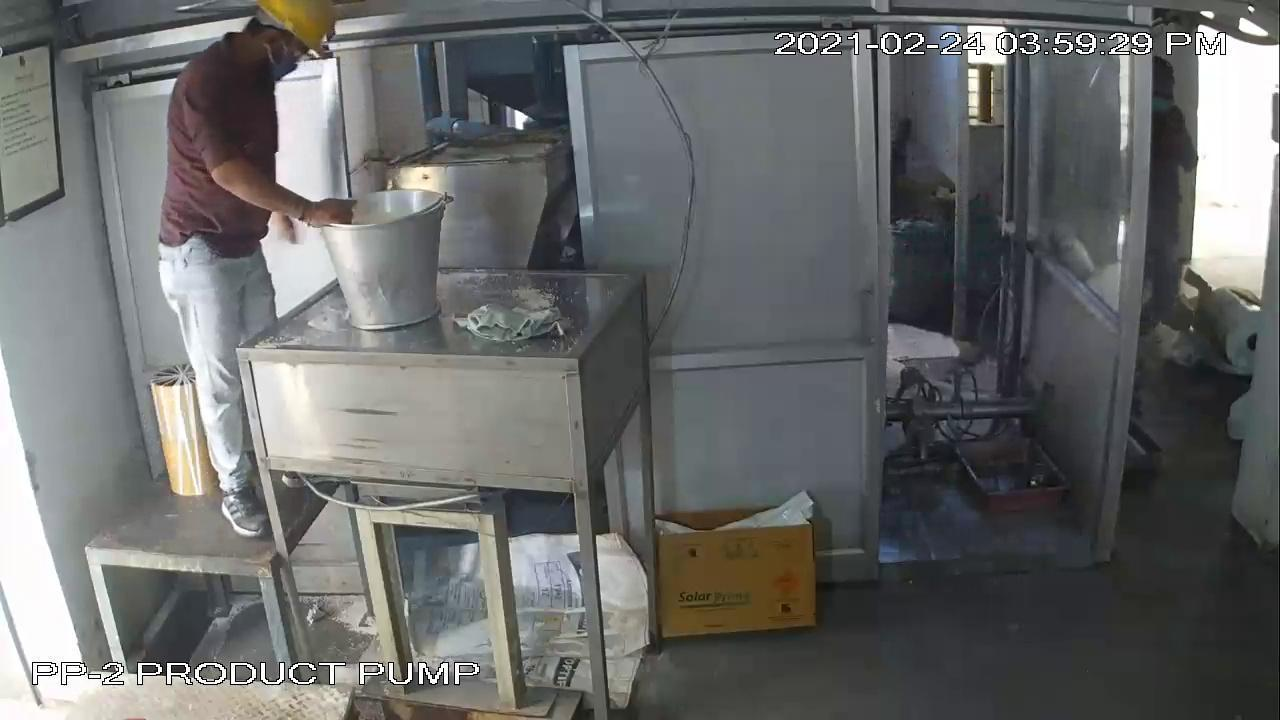helmet: (240, 1, 348, 60)
